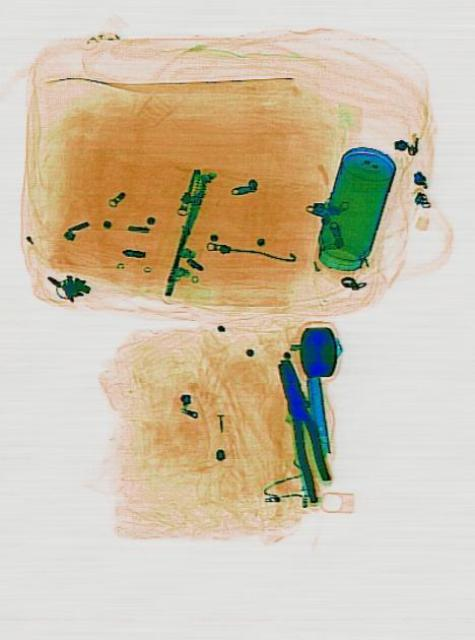Pliers: (268, 356, 335, 504)
